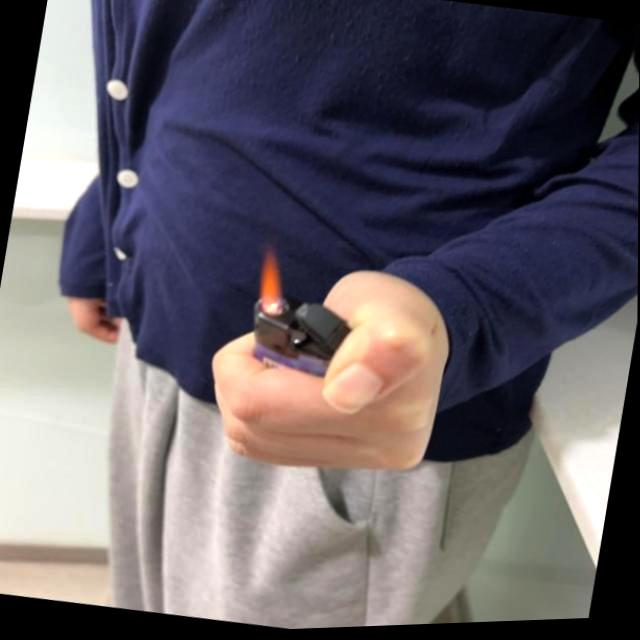fire: (255, 245, 289, 318)
